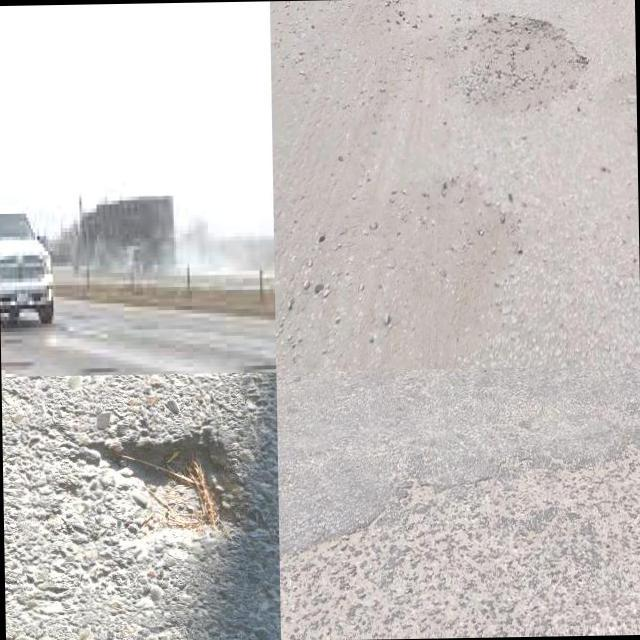Pothole: (86, 433, 256, 537), (443, 9, 589, 116), (599, 67, 637, 157)
